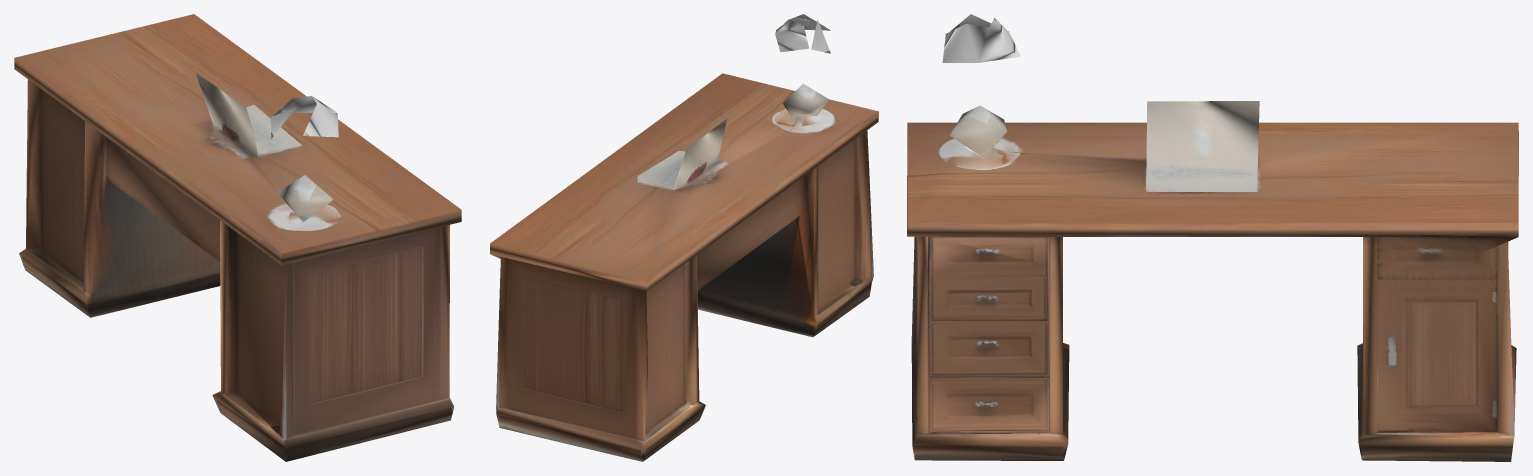
The model's file is TripoModel.glb.
The picture shows the model from 3 angles, left to right: view 1: azimuth 30°, elevation 25°; view 2: azimuth 150°, elevation 25°; view 3: azimuth 270°, elevation 25°; orthographic projection. The views are drawn at different scales.
Parts seen in each view (by area): view 1: tripo_node_7be40c9d-e532-4cf2-8f3e-2a5d0e024a5d; view 2: tripo_node_7be40c9d-e532-4cf2-8f3e-2a5d0e024a5d; view 3: tripo_node_7be40c9d-e532-4cf2-8f3e-2a5d0e024a5d.
Boxes of the visible parts, x1,y1,x2,y2 form: tripo_node_7be40c9d-e532-4cf2-8f3e-2a5d0e024a5d: [14, 14, 461, 461]; tripo_node_7be40c9d-e532-4cf2-8f3e-2a5d0e024a5d: [490, 14, 878, 461]; tripo_node_7be40c9d-e532-4cf2-8f3e-2a5d0e024a5d: [907, 14, 1518, 461].
Size of the model in its own units: 0.3881 by 0.6775 by 0.9994.
1 material, 1 textured.
